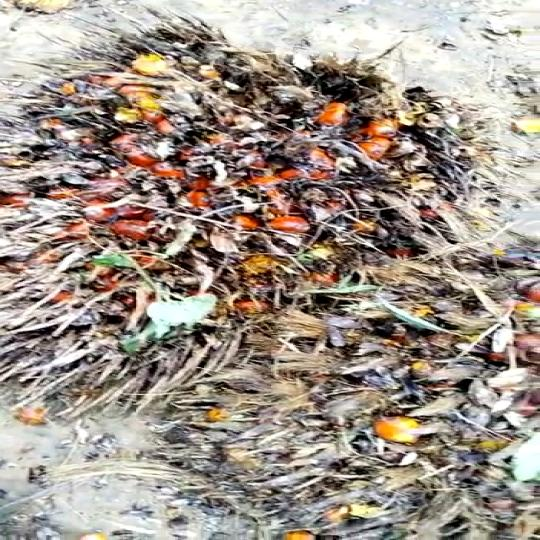terlalu masak: (0, 24, 481, 415)
